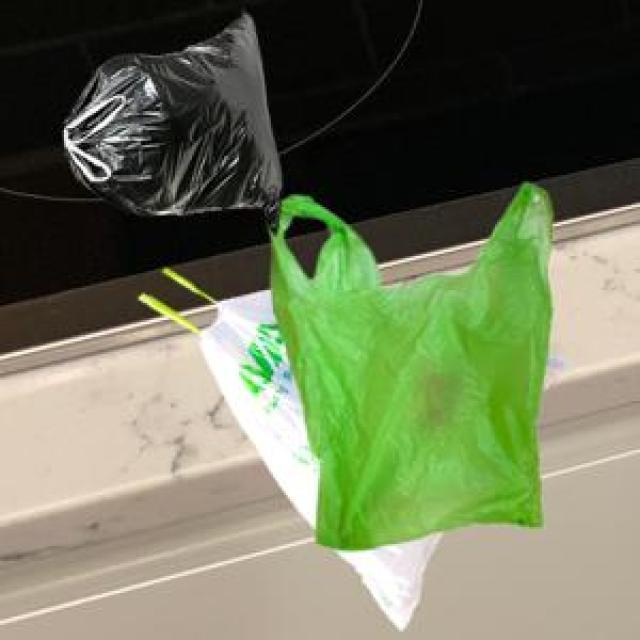miscellaneous trash: (60, 6, 277, 230)
